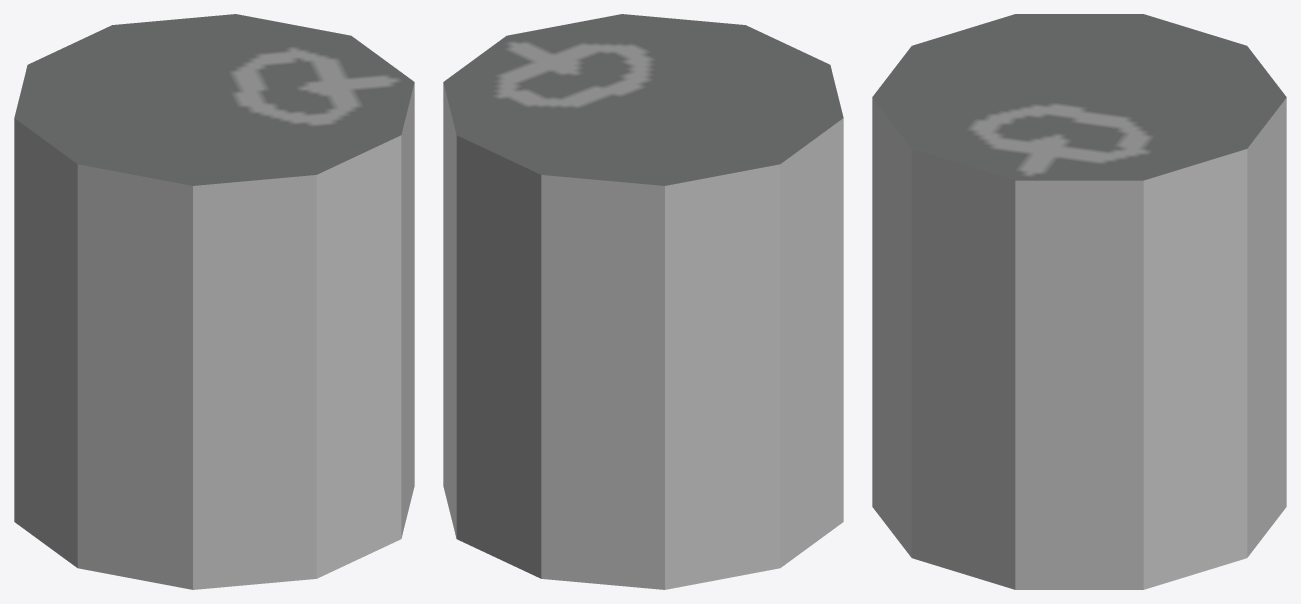
The model's file is Beers.fbx.
The picture shows the model from 3 angles, left to right: view 1: azimuth 30°, elevation 25°; view 2: azimuth 150°, elevation 25°; view 3: azimuth 270°, elevation 25°; orthographic projection.
Parts seen in each view (by area): view 1: Cylinder, Cylinder.001; view 2: Cylinder, Cylinder.001; view 3: Cylinder, Cylinder.001.
Boxes of the visible parts, x1=… form: Cylinder: x1=14, y1=83, x2=414, y2=589; Cylinder.001: x1=14, y1=14, x2=414, y2=185; Cylinder: x1=443, y1=83, x2=843, y2=589; Cylinder.001: x1=443, y1=14, x2=843, y2=185; Cylinder: x1=872, y1=98, x2=1286, y2=589; Cylinder.001: x1=872, y1=14, x2=1286, y2=180.
Size of the model in its own units: 1.07 by 1.12 by 1.22.
2 materials, 1 textured.
